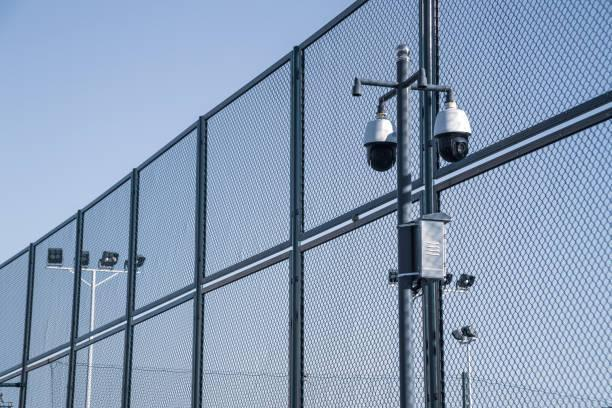camera: (418, 88, 495, 188), (357, 107, 407, 182)
